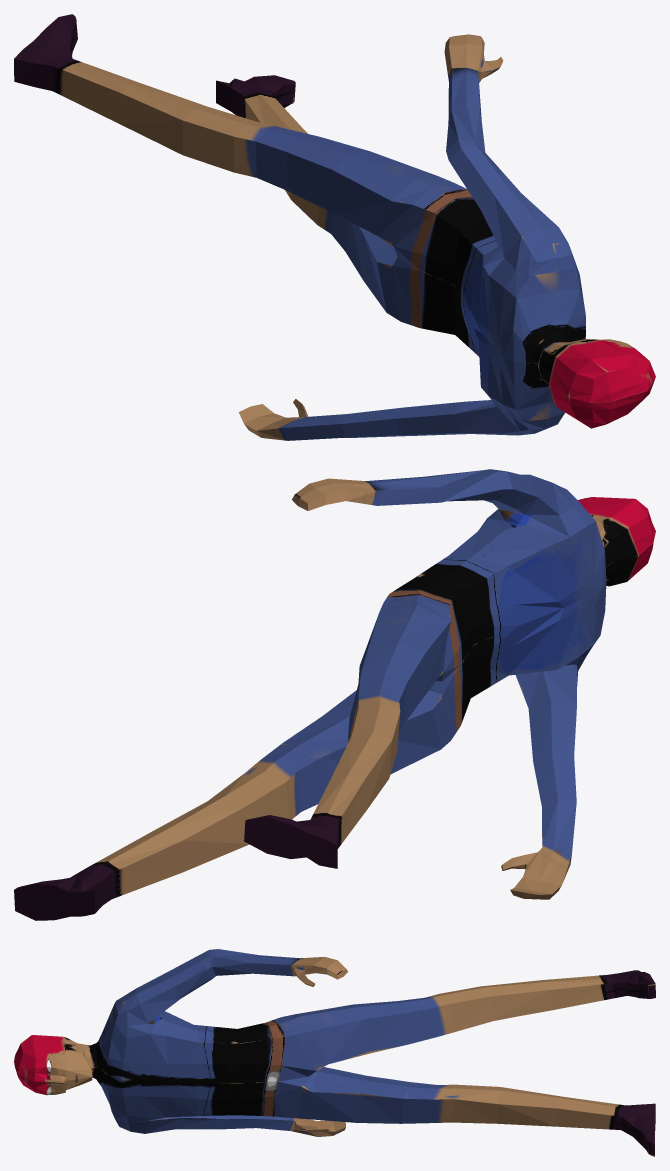
File: mirrorman_000028.obj
3 renders of one model, top to bottom at view 1: azimuth 30°, elevation 25°; view 2: azimuth 150°, elevation 25°; view 3: azimuth 270°, elevation 25°, orthographic. The views are drawn at different scales.
Parts seen in each view (by area): view 1: mirrorman_Cube.001_Material.001; view 2: mirrorman_Cube.001_Material.001; view 3: mirrorman_Cube.001_Material.001.
Boxes of the visible parts, x1=… form: mirrorman_Cube.001_Material.001: x1=14, y1=14, x2=655, y2=440; mirrorman_Cube.001_Material.001: x1=14, y1=469, x2=655, y2=920; mirrorman_Cube.001_Material.001: x1=14, y1=949, x2=655, y2=1156.
Bounding box in the file's own units: 0.6994 × 0.7759 × 1.89.
Materials: 1 (1 with a texture image).
